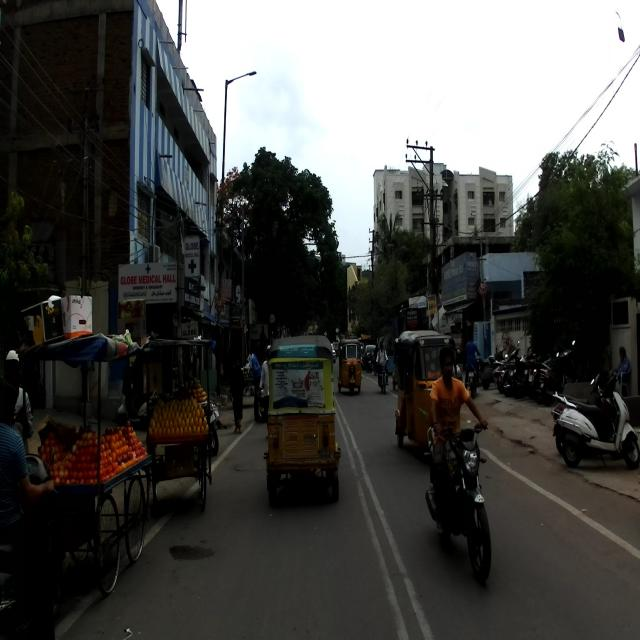autorickshaw: (262, 334, 341, 508), (395, 329, 460, 456)
motorcycle: (425, 414, 492, 582)
scooter: (557, 370, 639, 471), (552, 371, 616, 455)
